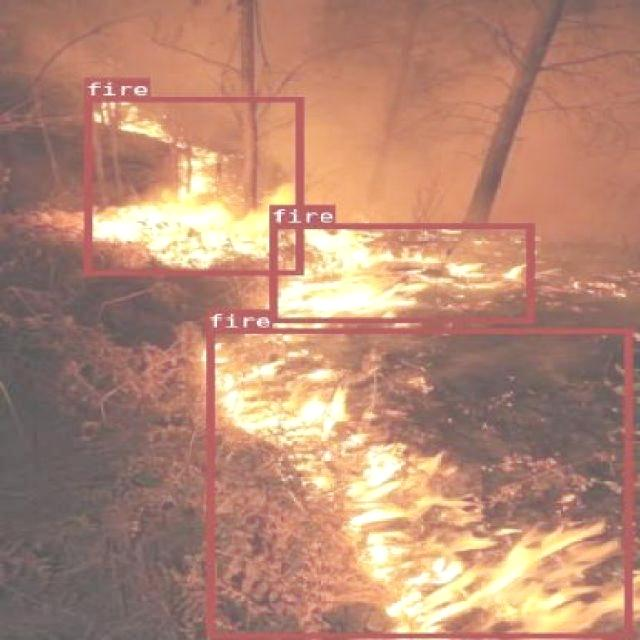fire: (205, 328, 630, 637), (82, 95, 301, 274), (270, 223, 532, 322)
